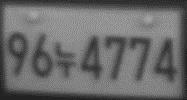4: (80, 34, 104, 80), (152, 38, 177, 82)
6: (30, 31, 54, 79)
7: (127, 35, 152, 80), (105, 35, 126, 81)
9: (7, 31, 29, 76)
누: (54, 41, 78, 79)
